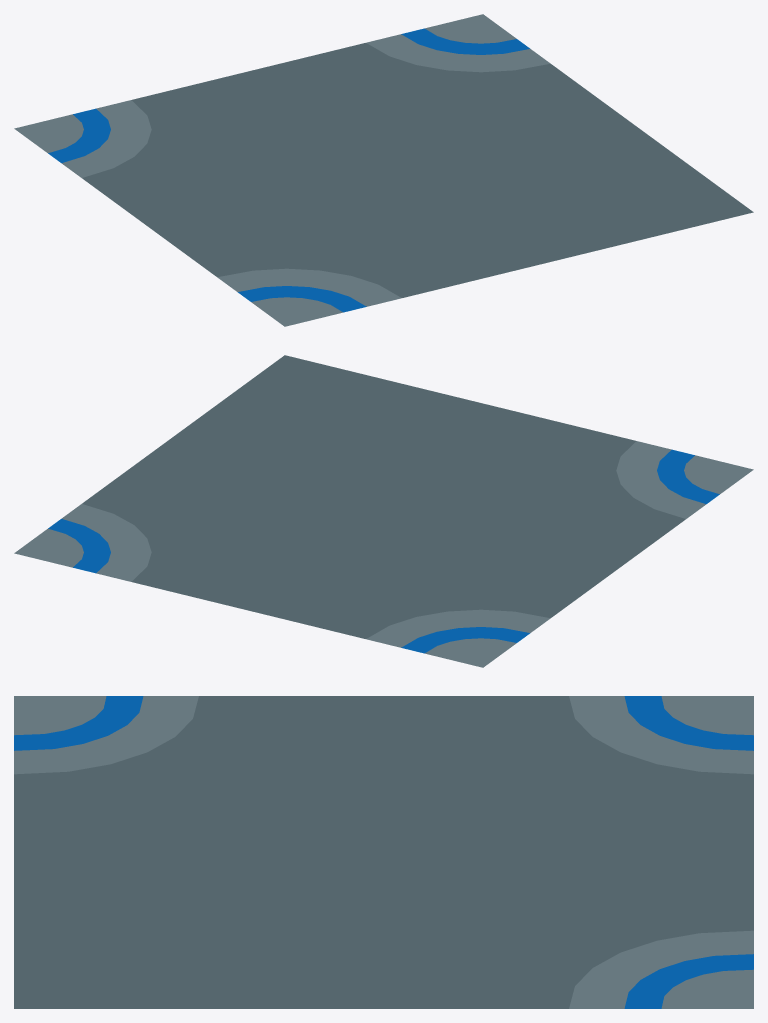
The model's file is Ceiling_type_C_039.fbx.
The picture shows the model from 3 angles, top to bottom: view 1: azimuth 30°, elevation 25°; view 2: azimuth 150°, elevation 25°; view 3: azimuth 270°, elevation 25°; orthographic projection. The views are drawn at different scales.
Parts seen in each view (by area): view 1: Ceiling_type_C_039; view 2: Ceiling_type_C_039; view 3: Ceiling_type_C_039.
Boxes of the visible parts, bbox=[...] form: Ceiling_type_C_039: bbox=[14, 14, 753, 326]; Ceiling_type_C_039: bbox=[14, 355, 753, 667]; Ceiling_type_C_039: bbox=[14, 696, 753, 1008].
Bounding box in the file's own units: 400 × 400 × 1.2.
